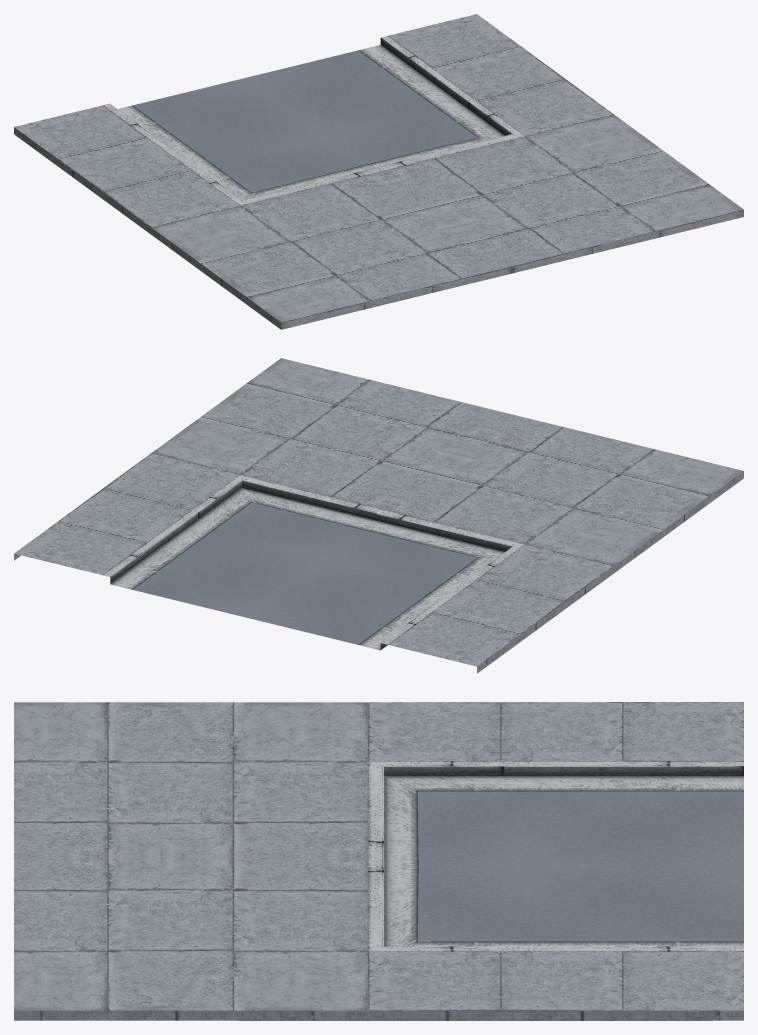
File: Road Dead End.fbx
3 renders of one model, top to bottom at view 1: azimuth 30°, elevation 25°; view 2: azimuth 150°, elevation 25°; view 3: azimuth 270°, elevation 25°, orthographic. The views are drawn at different scales.
Visible parts, largest first — view 1: Road Dead End; view 2: Road Dead End; view 3: Road Dead End.
Part boxes in pixels (box(x1,y1,x2,y2)): Road Dead End: box(14, 14, 743, 329); Road Dead End: box(14, 358, 743, 673); Road Dead End: box(14, 702, 743, 1020).
Bounding box in the file's own units: 600 × 9.14 × 600.
